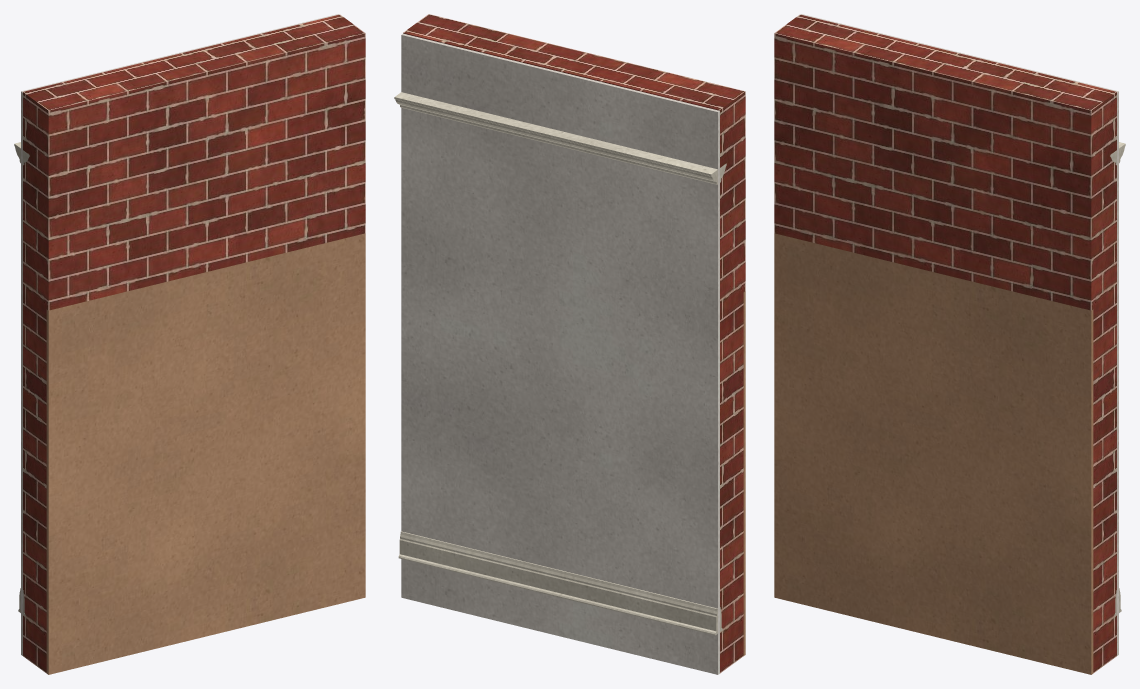
File: b_u2_plain.glb
3 views of the same model, side by side, from view 1: azimuth 30°, elevation 25°; view 2: azimuth 150°, elevation 25°; view 3: azimuth 330°, elevation 25° (orthographic).
Visible parts, largest first — view 1: b_u2_plain_aplaster, b_u2_plain_brick, b_u2_plain_plaster; view 2: b_u2_plain_plaster, b_u2_plain_brick, molduras, b_u2_plain_aplaster; view 3: b_u2_plain_aplaster, b_u2_plain_brick, b_u2_plain_plaster.
Part boxes in pixels (<box>): b_u2_plain_aplaster: <box>46,233,365,674</box>; b_u2_plain_brick: <box>23,14,365,673</box>; b_u2_plain_plaster: <box>21,14,338,655</box>; b_u2_plain_plaster: <box>401,33,719,674</box>; b_u2_plain_brick: <box>403,14,745,673</box>; molduras: <box>394,92,726,635</box>; b_u2_plain_aplaster: <box>743,291,745,655</box>; b_u2_plain_aplaster: <box>774,233,1093,674</box>; b_u2_plain_brick: <box>774,14,1116,673</box>; b_u2_plain_plaster: <box>801,14,1118,655</box>.
Bounding box in the file's own units: 2 × 3.4 × 0.375.
4 materials, 4 textured.
